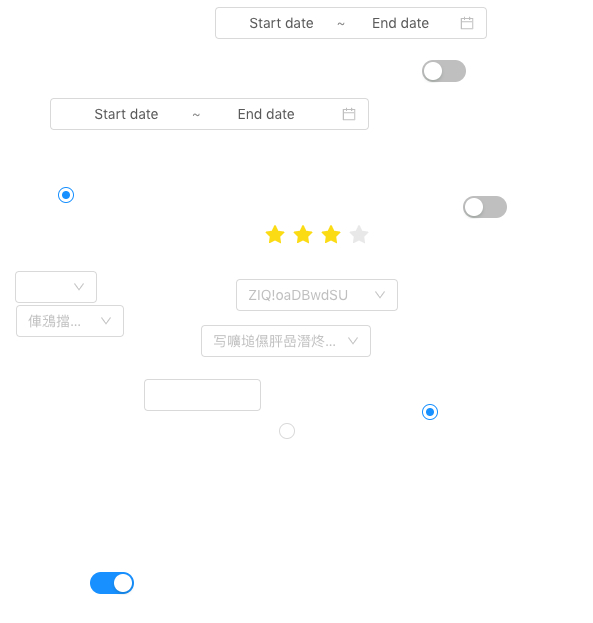Input: (144, 379, 261, 411)
Radio: (58, 184, 74, 204), (422, 401, 438, 421), (279, 420, 295, 440)
RangePicker: (50, 98, 369, 130), (215, 7, 487, 39)
Rate: (265, 218, 385, 250)
Select: (201, 325, 371, 357), (236, 279, 398, 311), (16, 305, 124, 337), (15, 271, 97, 303)
Switch: (463, 195, 507, 219), (422, 59, 466, 83), (90, 571, 134, 595)
